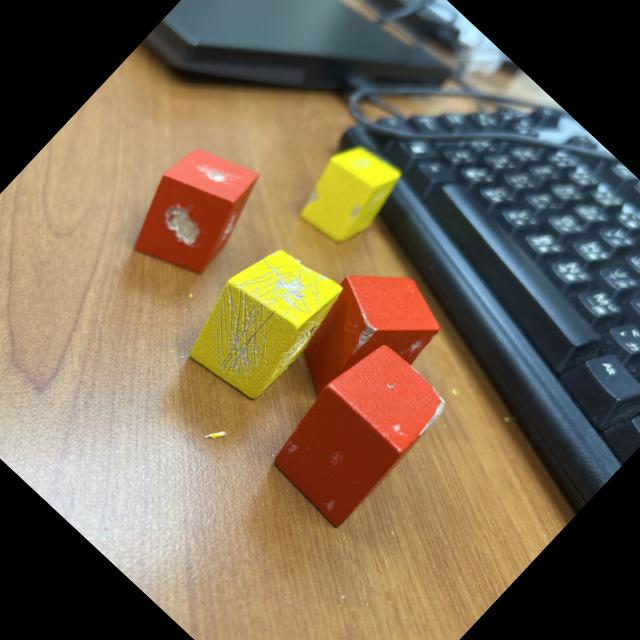broken: (258, 332, 454, 530), (274, 245, 456, 430), (172, 227, 354, 412), (112, 127, 278, 295), (286, 129, 412, 256)
